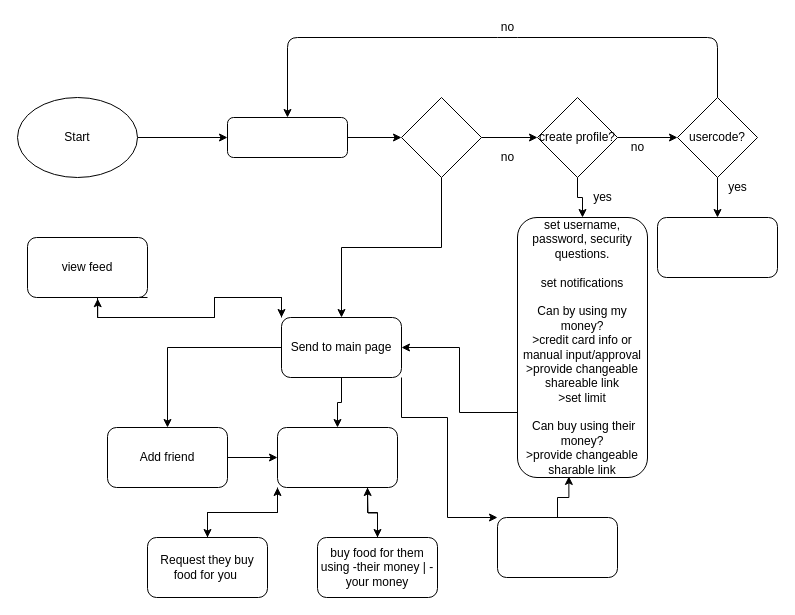
Some shapes in this 795 by 615 pixel diagram are drawn without their labels. The shapes that lost their labels are listed below. From the top down, each one's centre as x and y in pixels, then its label:
point (287, 137): User connects to website
point (441, 137): login?
point (717, 247): send to user profile with permissions based on code
point (337, 457): look at friend profile
point (557, 547): my profile
